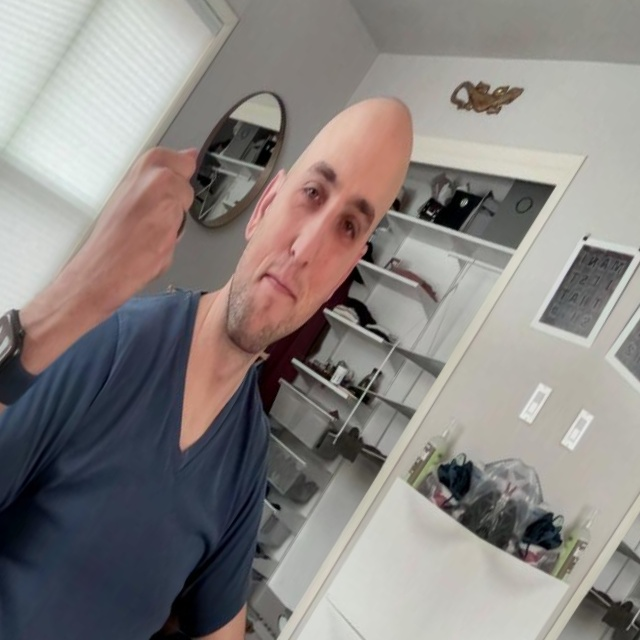Rock: (61, 118, 234, 320)
